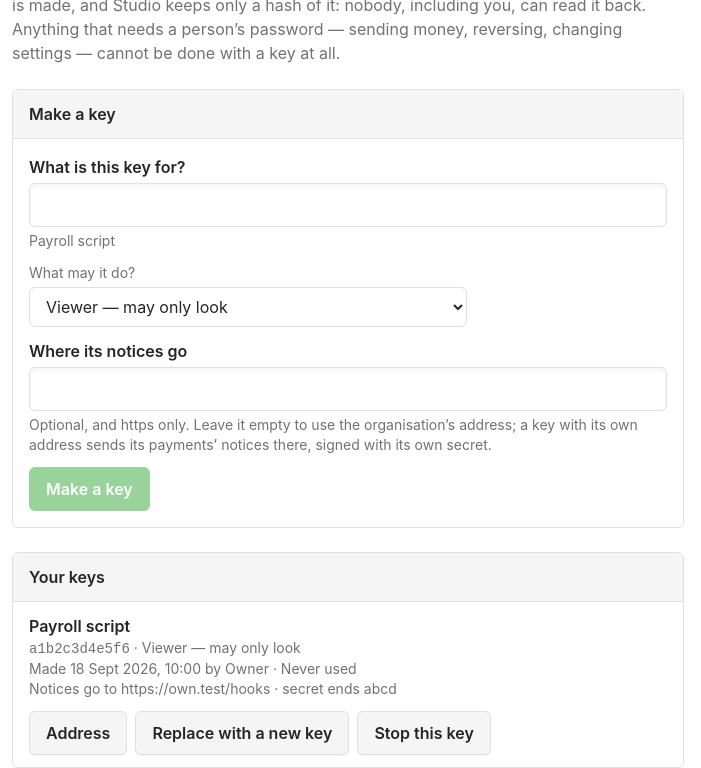
Scenario: key webhook addresses (part five) › stops a key using its own address, and says what happens to what is already written
(page scrolled)
Expected: the list item with test id "key-k1" is shown, [29,616,491,755]
Click the button "Address" at x=78, y=733, box [29,711,127,755]
(page scrolled)
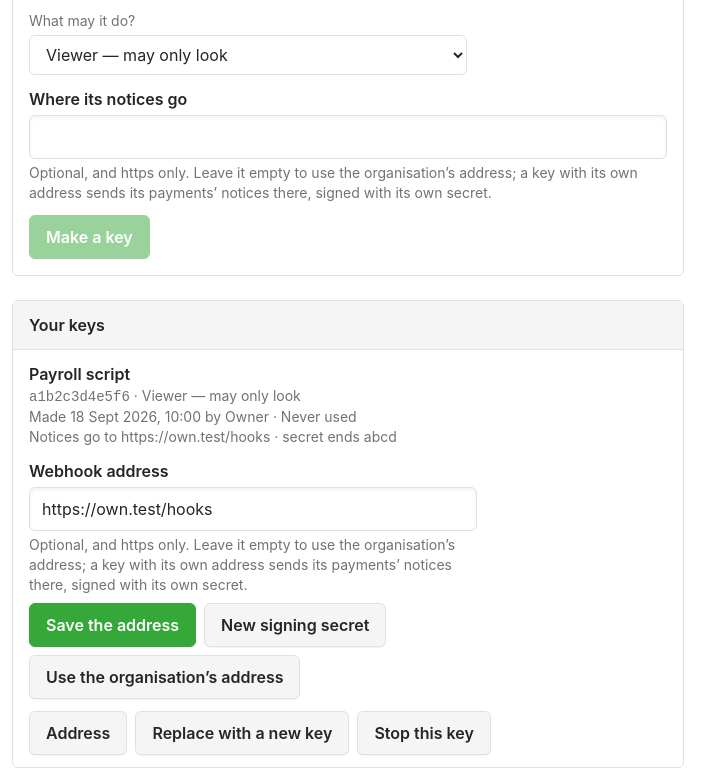
Click the button "Use the organisation’s address" at x=165, y=677, box [29,655,300,699]
(page scrolled)
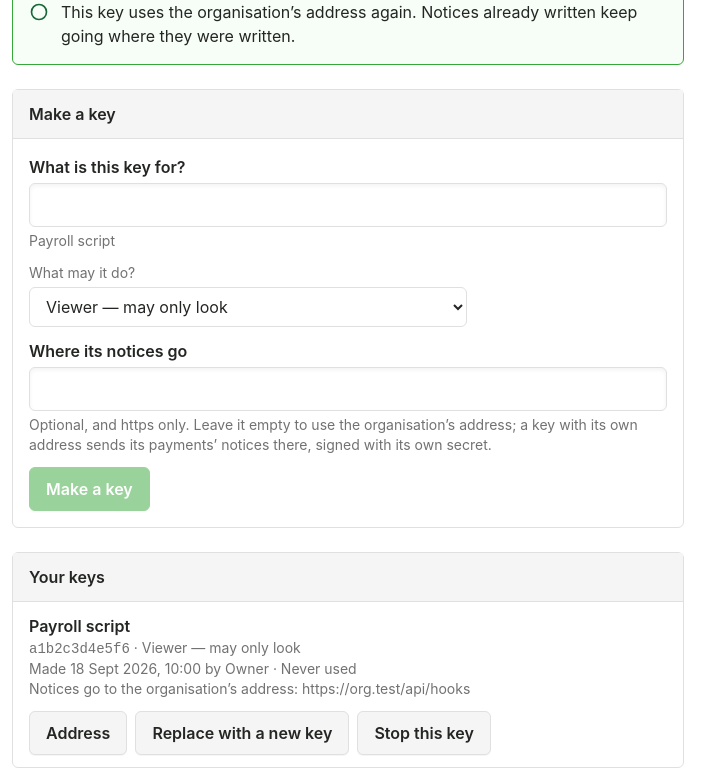
Expected: the text "This key uses the organisation’s address again. Notices already written keep going where they were written." is shown, [61,2,637,46]
Expected: the text with test id "key-address-k1" shows "https://org.test/api/hooks", [29,680,470,697]
